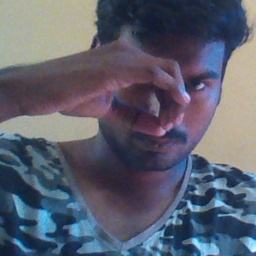O: (55, 38, 195, 142)
